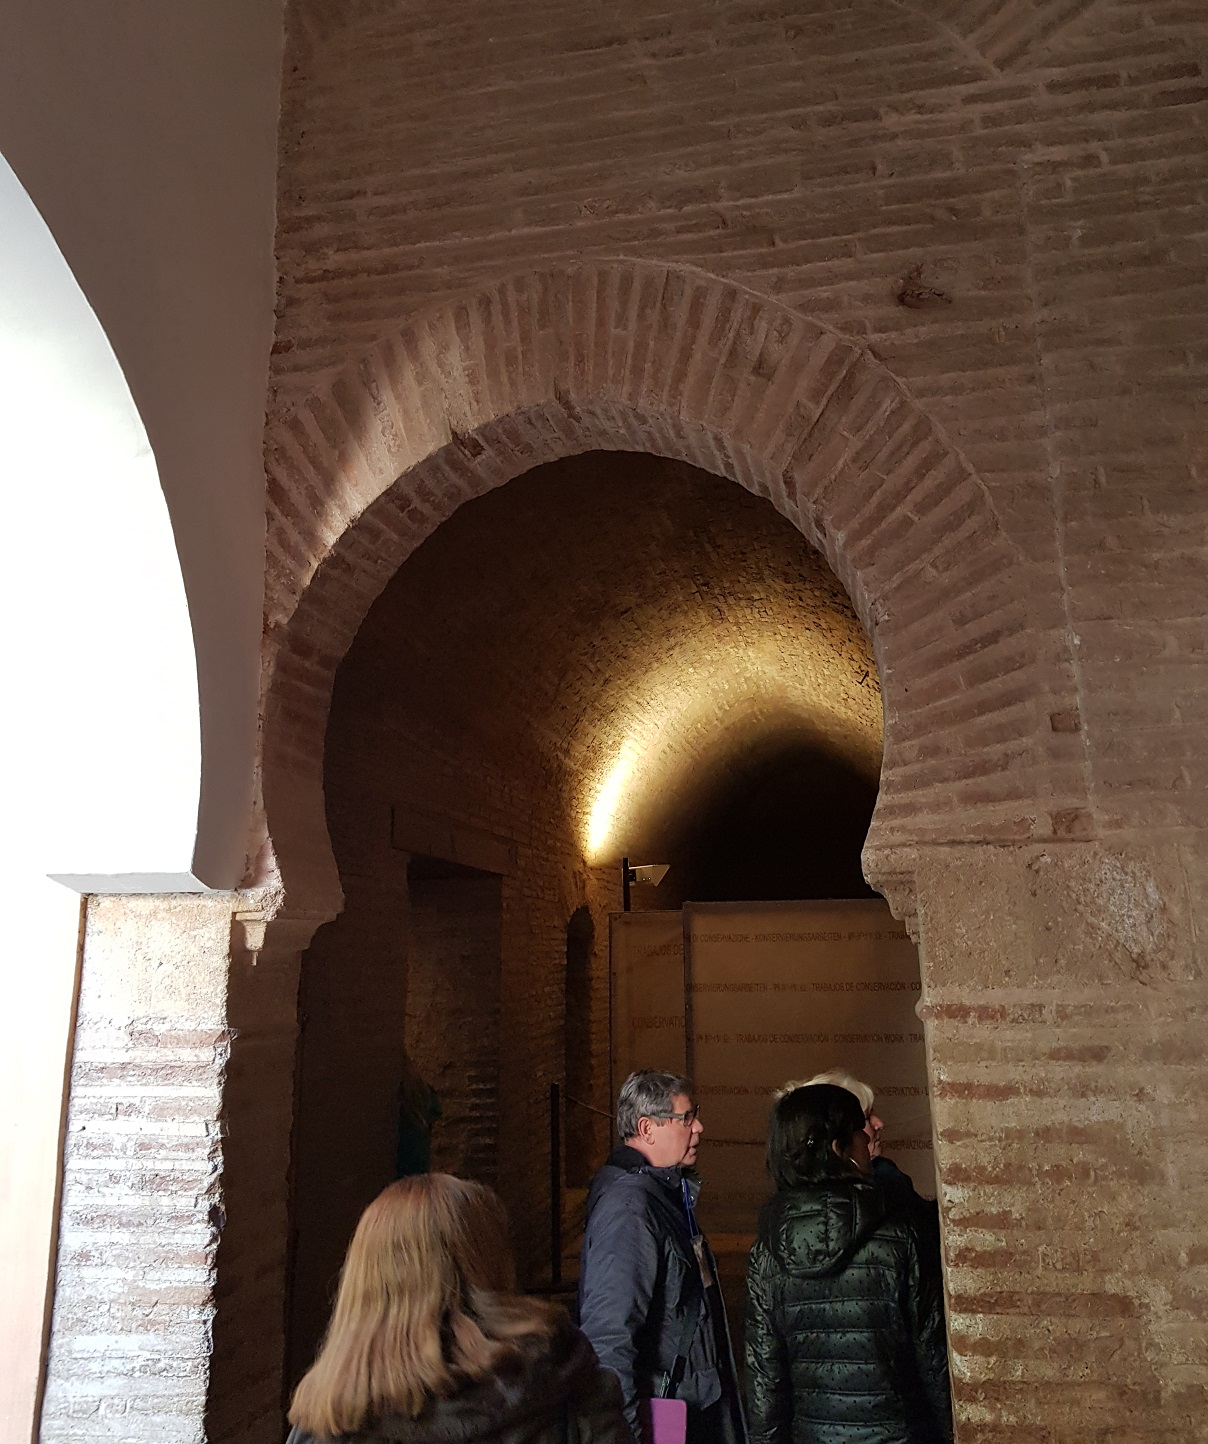arco-herradura: (226, 375, 945, 1001)
